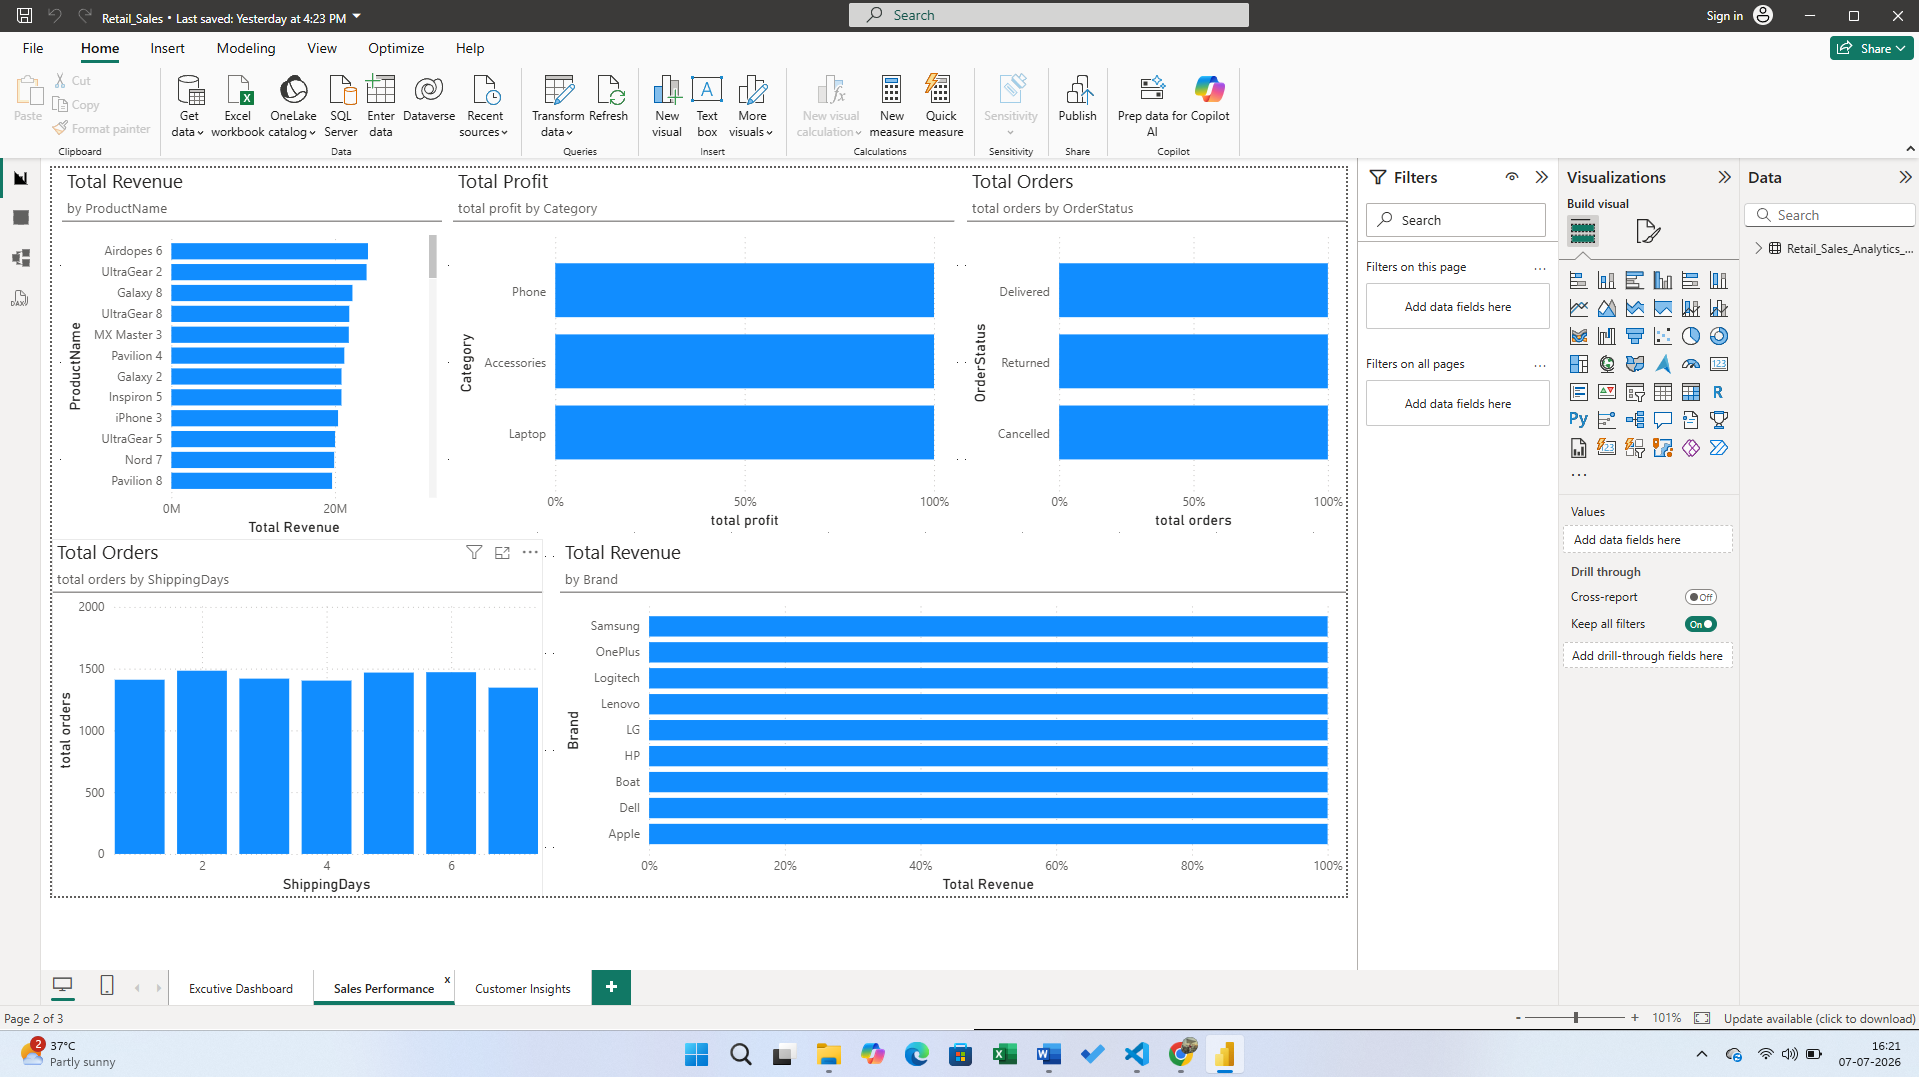

This screenshot's page, from the dashboard's own definition file:
{"tool":"powerbi","page":{"name":"Sales Performance","canvas":[1280,720],"ordinal":1},"visuals":[{"type":"barChart","fields":{"Category":["Retail_Sales_Analytics_Enterprise_Dataset.ProductName"],"Y":["Retail_Sales_Analytics_Enterprise_Dataset.Total Revenue"]},"box":[9.7,0,375.4,366.7],"z":0},{"type":"hundredPercentStackedBarChart","fields":{"Category":["Retail_Sales_Analytics_Enterprise_Dataset.Brand"],"Y":["Retail_Sales_Analytics_Enterprise_Dataset.Total Revenue"]},"box":[501.9,366.7,778.1,353.1],"z":1000},{"type":"hundredPercentStackedBarChart","title":"Total Profit","fields":{"Category":["Retail_Sales_Analytics_Enterprise_Dataset.Category"],"Y":["Retail_Sales_Analytics_Enterprise_Dataset.total profit"]},"box":[395.9,0,495.1,359.9],"z":2000},{"type":"hundredPercentStackedBarChart","title":"Total Orders","fields":{"Category":["Retail_Sales_Analytics_Enterprise_Dataset.OrderStatus"],"Y":["Retail_Sales_Analytics_Enterprise_Dataset.total orders"]},"box":[903.6,0,376.4,359.9],"z":3000},{"type":"clusteredColumnChart","title":"Total Orders","fields":{"Category":["Retail_Sales_Analytics_Enterprise_Dataset.ShippingDays"],"Y":["Retail_Sales_Analytics_Enterprise_Dataset.total orders"]},"box":[0,366.7,485.3,353.1],"z":4000}]}

Visuals, with their boxes on the page's 1280x720 design canvas (x1, y1, x2, y2). These are canvas units, not pixel positions in the 1919x1077 screenshot, which may show the page scaled, cropped or inside an application window:
barChart - Retail_Sales_Analytics_Enterprise_Dataset.ProductName x Retail_Sales_Analytics_Enterprise_Dataset.Total Revenue: [10,0,385,367]
hundredPercentStackedBarChart - Retail_Sales_Analytics_Enterprise_Dataset.Brand x Retail_Sales_Analytics_Enterprise_Dataset.Total Revenue: [502,367,1280,720]
"Total Profit" hundredPercentStackedBarChart: [396,0,891,360]
"Total Orders" hundredPercentStackedBarChart: [904,0,1280,360]
"Total Orders" clusteredColumnChart: [0,367,485,720]
